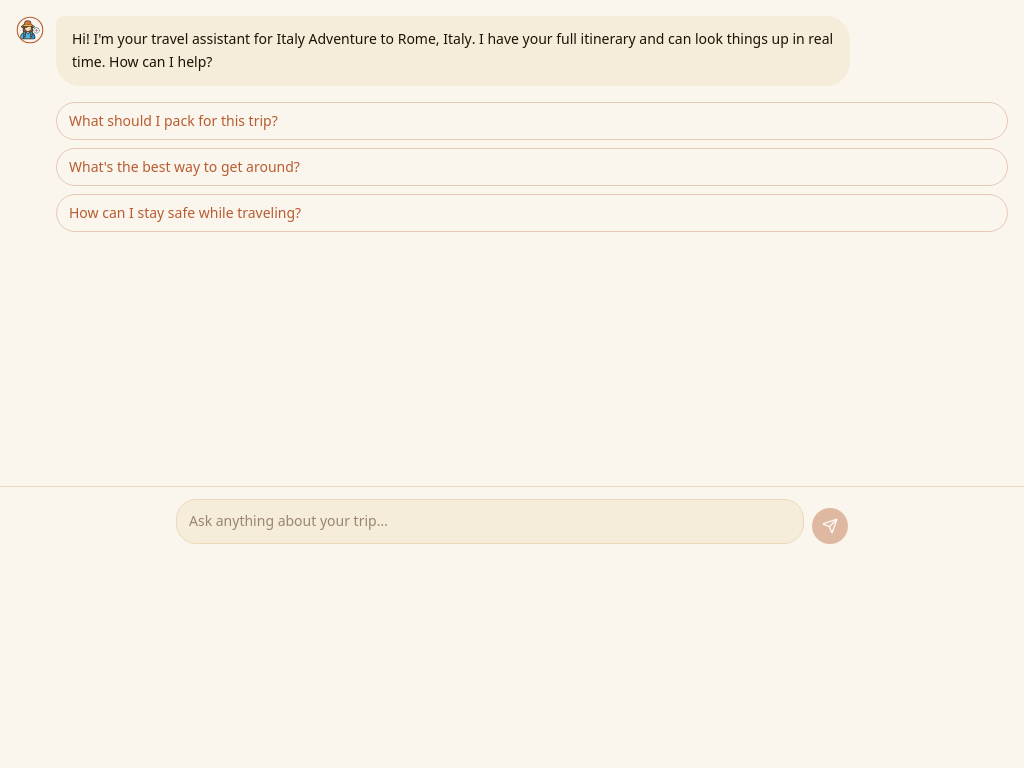
Test case: ChatTab › shows an error message when fetch fails
In the text box named "Chat message": (490, 522) [176,499,804,544], type "Hi"
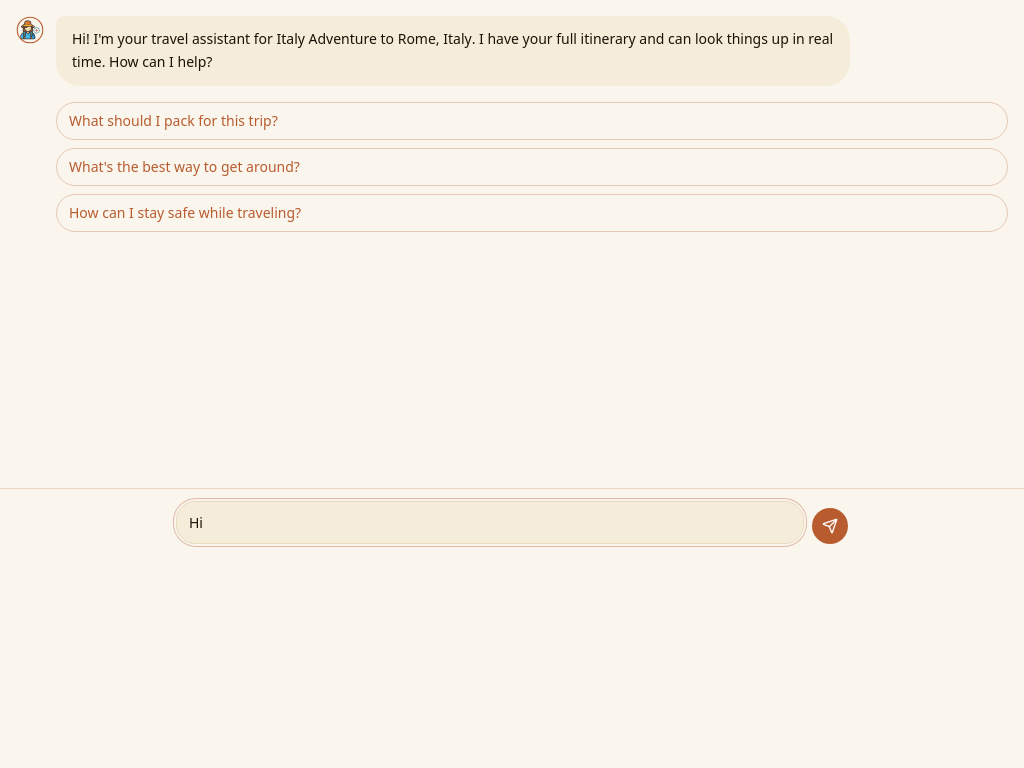
Click the button named "Send message": (830, 526) [812,508,848,544]
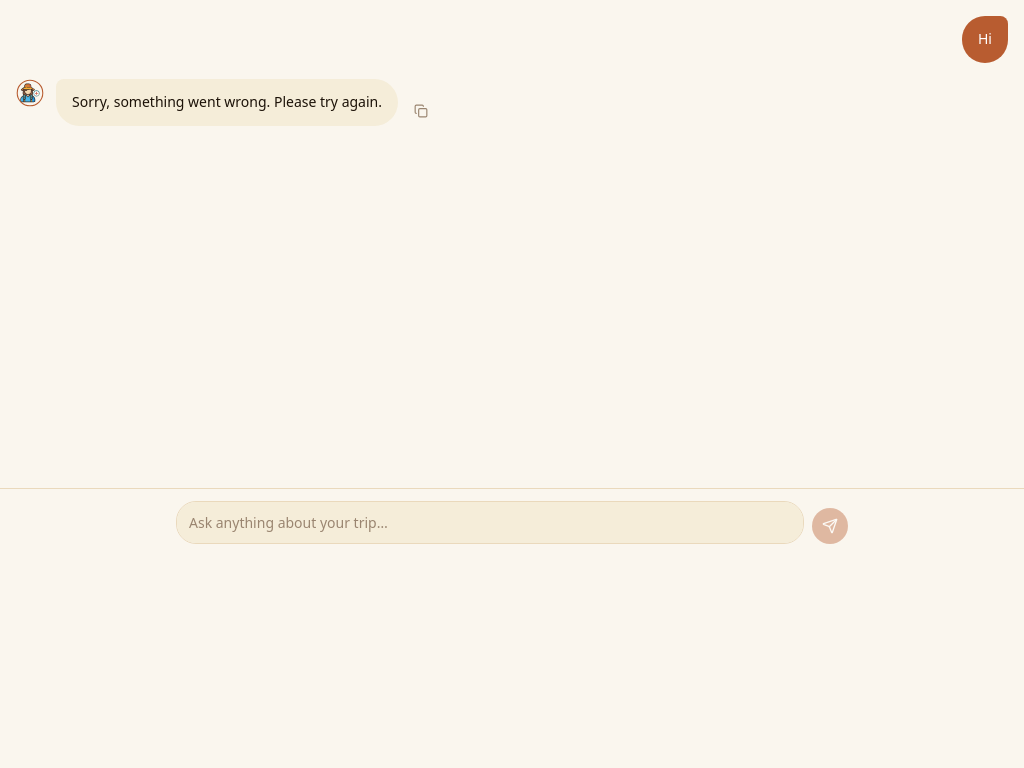
Expected: the text "Sorry, something went wrong. Please try again." is shown, [72,91,382,114]
